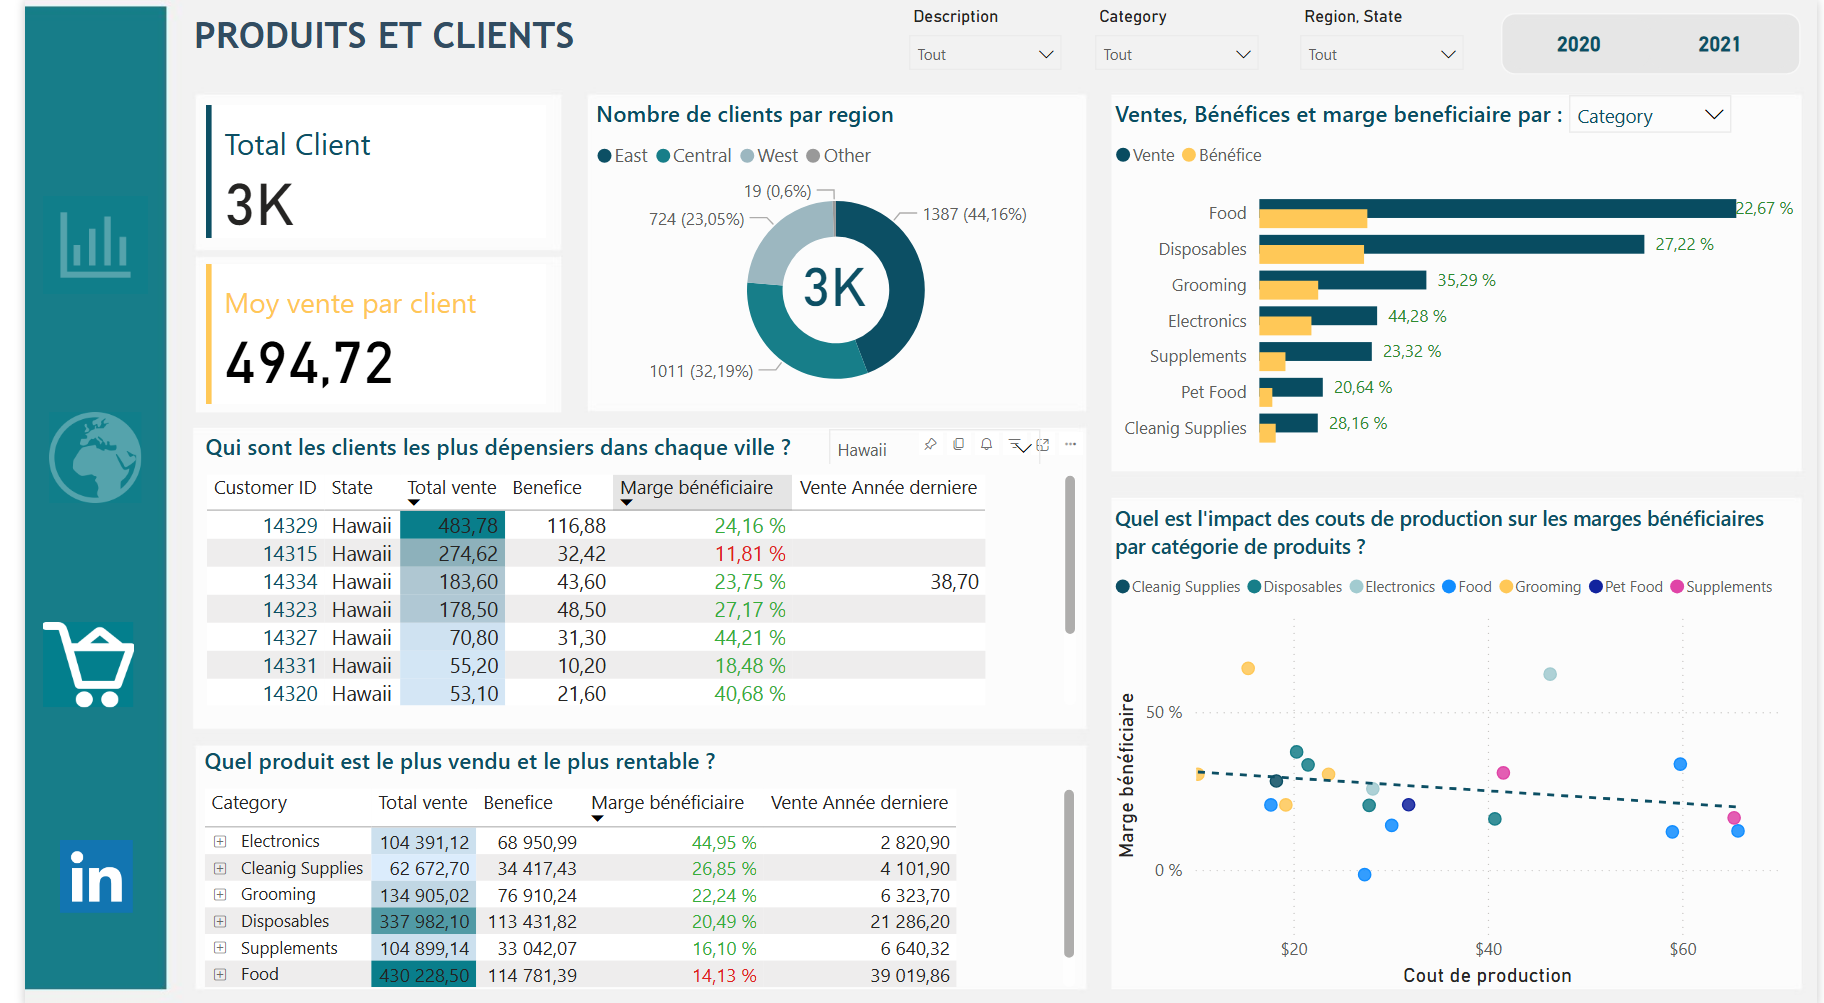

What the dashboard file says about the page in this screenshot:
{"tool":"powerbi","page":{"name":"Product and Customer","canvas":[1280,720],"ordinal":2},"visuals":[{"type":"cardVisual","fields":{"Data":["New_Measures.Number of Customers"]},"box":[124.5,70,253.6,105.5],"z":0},{"type":"cardVisual","fields":{"Data":["New_Measures.Vente_Moyenne_par_Client"]},"box":[124.5,183.6,253.6,110.9],"z":1000},{"type":"donutChart","title":"Nombre de clients par region","fields":{"Y":["New_Measures.Number of Customers"],"Category":["State Mapping.Region"]},"box":[402.7,70,352.7,224.5],"z":2000},{"type":"card","fields":{"Values":["New_Measures.Number of Customers"]},"box":[542.7,168.2,70,66.4],"z":3000},{"type":"clusteredBarChart","title":"Ventes, Bénéfices  et marge beneficiaire par :","fields":{"Category":["Products.Category"],"Y":["Sales.Montant_Total","Sum(Sales.Profit (Baseline))"]},"box":[773.6,70,494.5,261.8],"z":4000},{"type":"slicer","fields":{"Values":["Produit.Produit"]},"box":[1092.7,58.2,136.4,43.6],"z":5000},{"type":"tableEx","title":"Qui sont les clients les plus dépensiers dans chaque ville ?","fields":{"Values":["Sales.Customer ID","State Mapping.State","Sales.Montant_Total","Sum(Market Basket.Profit (Baseline))","New_Measures.Profit %","Sales.Vente Année derniere"]},"box":[124.8,307.6,631.4,198.1],"z":6000},{"type":"slicer","fields":{"Values":["State Mapping.State"]},"box":[564.5,296.4,170.9,35.5],"z":7000},{"type":"pivotTable","title":"Quel produit est le plus vendu et le plus rentable ?","fields":{"Rows":["Products.Category","Products.Description"],"Values":["Sales.Montant_Total","Sum(Market Basket.Profit (Baseline))","New_Measures.Profit %","Sales.Vente Année derniere"]},"box":[124.5,531.8,630.9,174.5],"z":8000},{"type":"scatterChart","title":"Quel est l''impact des couts de production sur les marges bénéficiaires par catégorie de produits ?","fields":{"Y":["New_Measures.Profit %"],"Series":["Products.Category"],"X":["Sales.COGS"],"Category":["Sales.Description"]},"box":[773.6,360,494.5,349.1],"z":9000},{"type":"textbox","box":[115.5,4.5,373.6,52.7],"z":10000},{"type":"advancedSlicerVisual","fields":{"Values":["calendar.year"]},"box":[1054.5,9.1,213.6,43.6],"z":11000},{"type":"slicer","fields":{"Values":["Products.Category"]},"box":[754.1,0,137.4,53],"z":12000},{"type":"slicer","fields":{"Values":["State Mapping.Region","State Mapping.State"]},"box":[900.4,0,137.4,53],"z":13000},{"type":"slicer","fields":{"Values":["Products.Description"]},"box":[621.2,0,129.3,53],"z":14000},{"type":"actionButton","box":[12.7,140,75.5,70],"z":15000},{"type":"actionButton","box":[12.7,444.5,64.5,60.9],"z":16000},{"type":"actionButton","box":[17.3,294.5,66.4,65.5],"z":17000},{"type":"image","box":[20,590,61.8,72.7],"z":18000}]}

Visuals, with their boxes in screenshot pixels (x1, y1, x2, y2), scaled from the page's 1280x720 canvas onto the 1824x1003 screenshot:
cardVisual - New_Measures.Number of Customers: l=177, t=98, r=539, b=244
cardVisual - New_Measures.Vente_Moyenne_par_Client: l=177, t=256, r=539, b=410
"Nombre de clients par region" donutChart: l=574, t=98, r=1076, b=410
card - New_Measures.Number of Customers: l=773, t=234, r=873, b=327
"Ventes, Bénéfices  et marge beneficiaire par :" clusteredBarChart: l=1102, t=98, r=1807, b=462
slicer - Produit.Produit: l=1557, t=81, r=1751, b=142
"Qui sont les clients les plus dépensiers dans chaque ville ?" tableEx: l=178, t=429, r=1078, b=704
slicer - State Mapping.State: l=804, t=413, r=1048, b=462
"Quel produit est le plus vendu et le plus rentable ?" pivotTable: l=177, t=741, r=1076, b=984
"Quel est l''impact des couts de production sur les marges bénéficiaires par catégorie de produits ?" scatterChart: l=1102, t=502, r=1807, b=988
textbox: l=165, t=6, r=697, b=80
advancedSlicerVisual - calendar.year: l=1503, t=13, r=1807, b=73
slicer - Products.Category: l=1075, t=0, r=1270, b=74
slicer - State Mapping.Region x State Mapping.State: l=1283, t=0, r=1479, b=74
slicer - Products.Description: l=885, t=0, r=1069, b=74
actionButton: l=18, t=195, r=126, b=293
actionButton: l=18, t=619, r=110, b=704
actionButton: l=25, t=410, r=119, b=502
image: l=28, t=822, r=117, b=923
